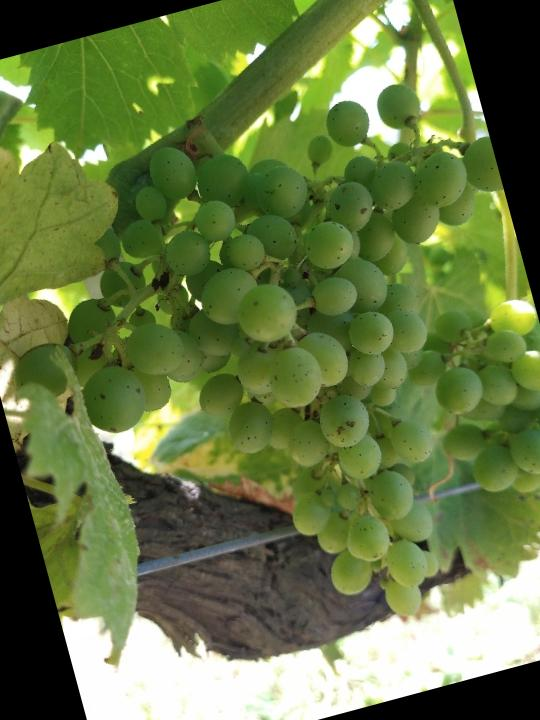grape: (0, 62, 540, 704)
